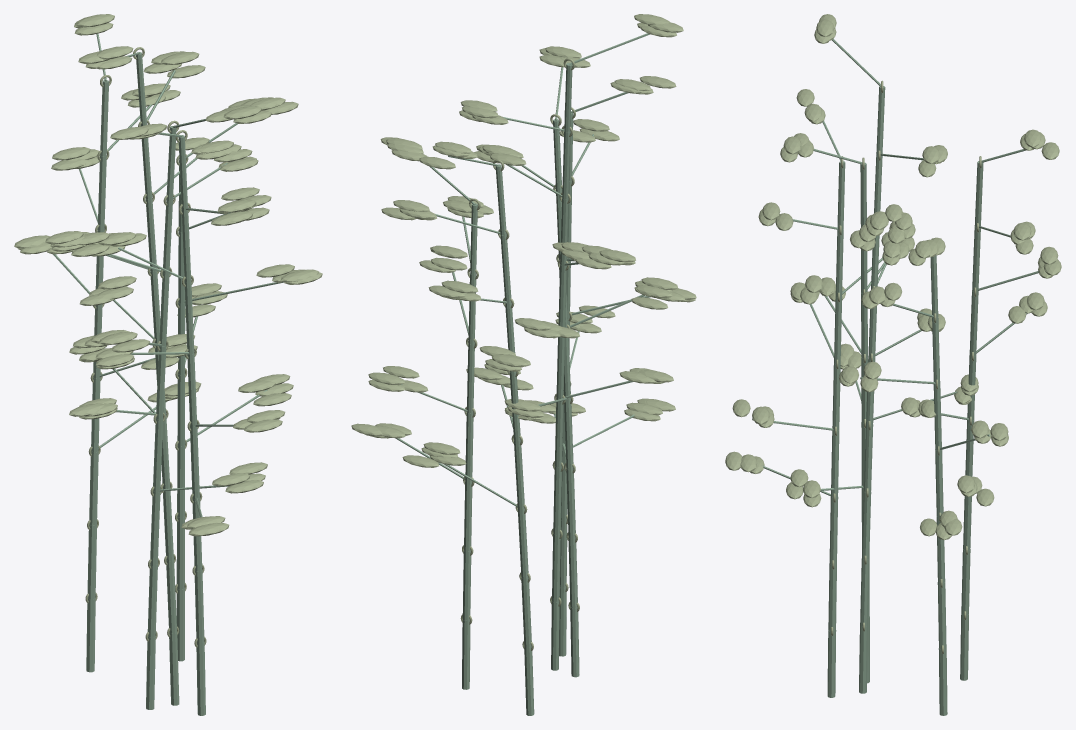
File: env_bamboo_cluster.glb
3 views of the same model, side by side, from view 1: azimuth 30°, elevation 25°; view 2: azimuth 150°, elevation 25°; view 3: azimuth 270°, elevation 25° (orthographic). The views are drawn at different scales.
Visible parts, largest first — view 1: env_bamboo_cluster/bamboo_culm_00046, env_bamboo_cluster/bamboo_culm_00092, env_bamboo_cluster/bamboo_culm_00177, env_bamboo_cluster/bamboo_culm_00000, env_bamboo_cluster/bamboo_culm_00048, env_bamboo_cluster/bamboo_culm_00050, env_bamboo_cluster/bamboo_culm_00094, env_bamboo_cluster/bamboo_culm_00179, env_bamboo_cluster/bamboo_culm_00002, env_bamboo_cluster/bamboo_culm_00096, env_bamboo_cluster/bamboo_culm_00103, env_bamboo_cluster/bamboo_culm_00181 (+18 smaller); view 2: env_bamboo_cluster/bamboo_culm_00177, env_bamboo_cluster/bamboo_culm_00092, env_bamboo_cluster/bamboo_culm_00046, env_bamboo_cluster/bamboo_culm_00138, env_bamboo_cluster/bamboo_culm_00094, env_bamboo_cluster/bamboo_culm_00048, env_bamboo_cluster/bamboo_culm_00096, env_bamboo_cluster/bamboo_culm_00140, env_bamboo_cluster/bamboo_culm_00179, env_bamboo_cluster/bamboo_culm_00181, env_bamboo_cluster/bamboo_culm_00050, env_bamboo_cluster/bamboo_culm_00142; view 3: env_bamboo_cluster/bamboo_culm_00177, env_bamboo_cluster/bamboo_culm_00138, env_bamboo_cluster/bamboo_culm_00000, env_bamboo_cluster/bamboo_culm_00179, env_bamboo_cluster/bamboo_culm_00046, env_bamboo_cluster/bamboo_culm_00002, env_bamboo_cluster/bamboo_culm_00140, env_bamboo_cluster/bamboo_culm_00181, env_bamboo_cluster/bamboo_culm_00048, env_bamboo_cluster/bamboo_culm_00004.
Boxes of the visible parts, box(x1,y1,x2,y2) form: env_bamboo_cluster/bamboo_culm_00046: box(86, 598, 95, 672); env_bamboo_cluster/bamboo_culm_00092: box(146, 636, 155, 709); env_bamboo_cluster/bamboo_culm_00177: box(169, 632, 179, 705); env_bamboo_cluster/bamboo_culm_00000: box(196, 642, 205, 715); env_bamboo_cluster/bamboo_culm_00048: box(87, 525, 96, 599); env_bamboo_cluster/bamboo_culm_00050: box(89, 451, 98, 525); env_bamboo_cluster/bamboo_culm_00094: box(147, 564, 157, 637); env_bamboo_cluster/bamboo_culm_00179: box(166, 560, 176, 633); env_bamboo_cluster/bamboo_culm_00002: box(194, 570, 204, 643); env_bamboo_cluster/bamboo_culm_00096: box(150, 491, 160, 564); env_bamboo_cluster/bamboo_culm_00103: box(153, 418, 163, 492); env_bamboo_cluster/bamboo_culm_00181: box(163, 488, 173, 561); env_bamboo_cluster/bamboo_culm_00177: box(551, 601, 559, 670); env_bamboo_cluster/bamboo_culm_00092: box(570, 607, 579, 677); env_bamboo_cluster/bamboo_culm_00046: box(524, 646, 534, 715); env_bamboo_cluster/bamboo_culm_00138: box(462, 620, 470, 689); env_bamboo_cluster/bamboo_culm_00094: box(568, 538, 577, 607); env_bamboo_cluster/bamboo_culm_00048: box(521, 578, 531, 647); env_bamboo_cluster/bamboo_culm_00096: box(566, 468, 575, 538); env_bamboo_cluster/bamboo_culm_00140: box(462, 551, 471, 620); env_bamboo_cluster/bamboo_culm_00179: box(552, 534, 560, 602); env_bamboo_cluster/bamboo_culm_00181: box(553, 467, 561, 535); env_bamboo_cluster/bamboo_culm_00050: box(517, 509, 528, 578); env_bamboo_cluster/bamboo_culm_00142: box(464, 481, 472, 551); env_bamboo_cluster/bamboo_culm_00177: box(859, 626, 867, 693); env_bamboo_cluster/bamboo_culm_00138: box(938, 648, 947, 715); env_bamboo_cluster/bamboo_culm_00000: box(827, 630, 836, 697); env_bamboo_cluster/bamboo_culm_00179: box(860, 558, 869, 626); env_bamboo_cluster/bamboo_culm_00046: box(960, 614, 968, 680); env_bamboo_cluster/bamboo_culm_00002: box(828, 563, 836, 631); env_bamboo_cluster/bamboo_culm_00140: box(937, 582, 946, 649); env_bamboo_cluster/bamboo_culm_00181: box(862, 491, 871, 559); env_bamboo_cluster/bamboo_culm_00048: box(961, 549, 970, 615); env_bamboo_cluster/bamboo_culm_00004: box(829, 497, 838, 564).
Size of the model in its own units: 1.3 by 3.06 by 1.48.
